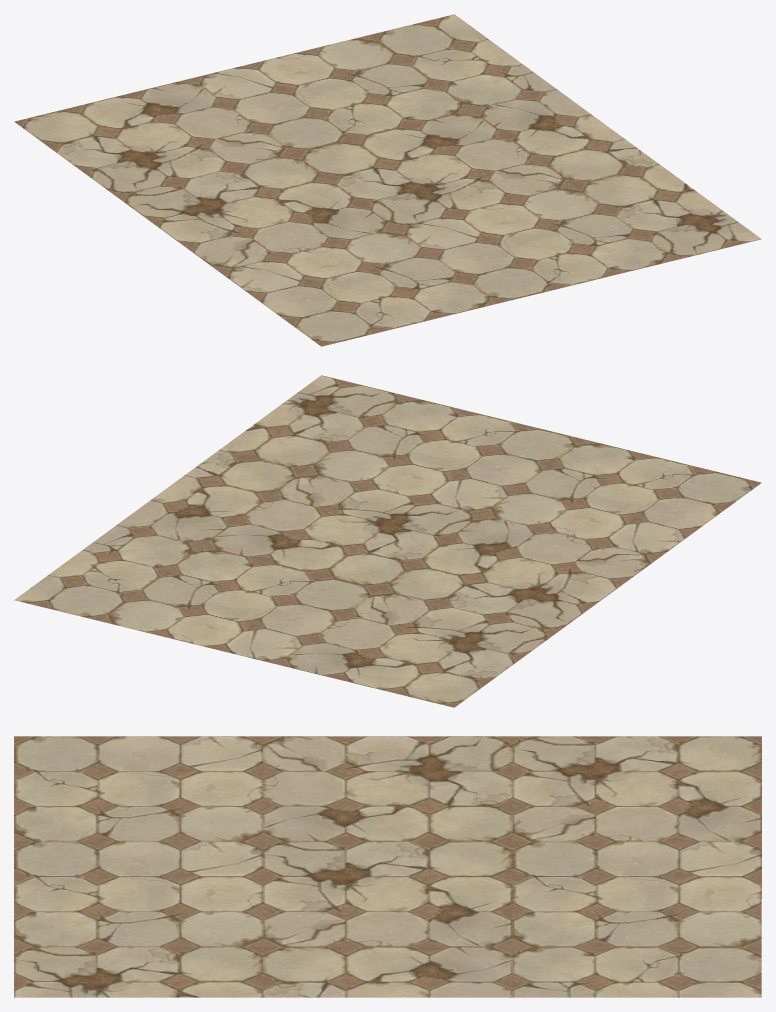
File: Ground19_Terrain_LostTemple_001.FBX
3 renders of one model, top to bottom at view 1: azimuth 30°, elevation 25°; view 2: azimuth 150°, elevation 25°; view 3: azimuth 270°, elevation 25°, orthographic. The views are drawn at different scales.
Parts seen in each view (by area): view 1: Ground19_Terrain_LostTemple_001; view 2: Ground19_Terrain_LostTemple_001; view 3: Ground19_Terrain_LostTemple_001.
Boxes of the visible parts, x1,y1,x2,y2 form: Ground19_Terrain_LostTemple_001: [14, 14, 761, 346]; Ground19_Terrain_LostTemple_001: [14, 375, 761, 707]; Ground19_Terrain_LostTemple_001: [14, 736, 761, 997].
Size of the model in its own units: 624 by 0.000123 by 754.
Materials: 1 (1 with a texture image).
